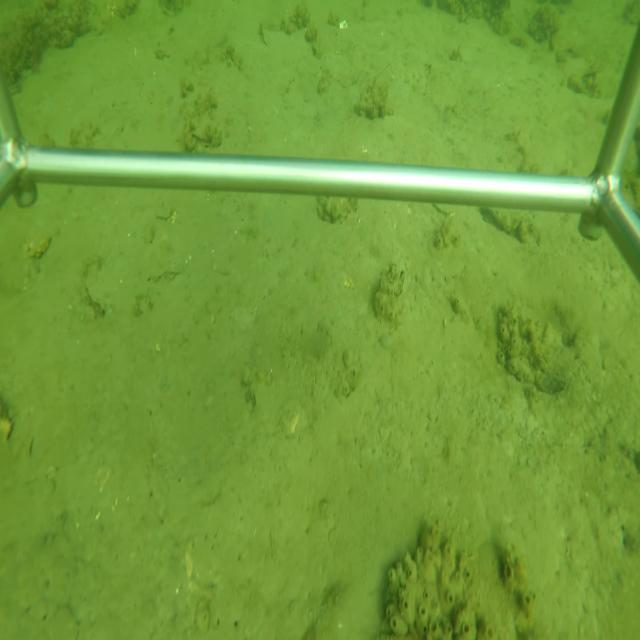Oyster-Open: (189, 121, 223, 148)
